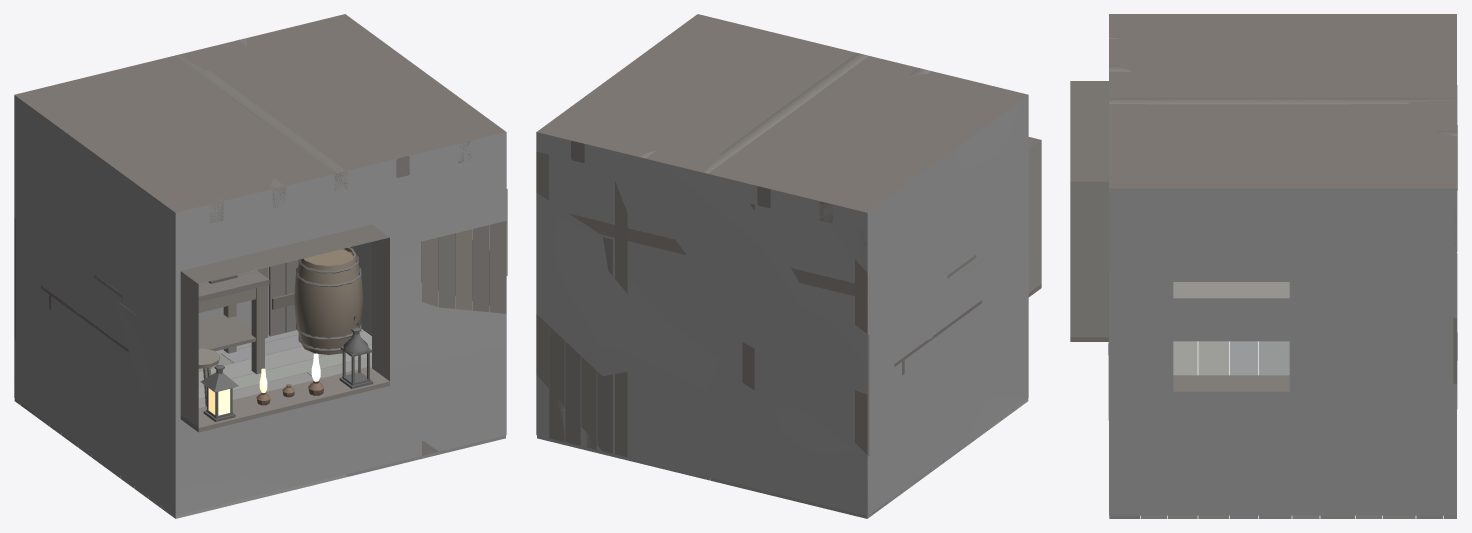
File: lamplighter_interior.glb
3 renders of one model, left to right at view 1: azimuth 30°, elevation 25°; view 2: azimuth 150°, elevation 25°; view 3: azimuth 270°, elevation 25°, orthographic. The views are drawn at different scales.
Parts seen in each view (by area): view 1: Room walls / tav_limewash, Room wood / tav_board, Room wood / tav_oak, Room wood / tav_floor, Workshop things / tav_board, Room walls / tav_oak, Room walls / tav_oak_smooth, Workshop things / tav_iron, Workbench / tav_oak, Workbench / tav_board, Workbench / tav_oak_smooth, Workshop things / tav_oak_smooth (+2 smaller); view 2: Room walls / tav_limewash, Room wood / tav_board, Room wood / tav_oak, Room wood / tav_floor, Room wood / tav_oak_end; view 3: Room walls / tav_limewash, Room wood / tav_board, Room wood / tav_floor, Room walls / tav_oak, Room wood / tav_oak, Room walls / tav_oak_smooth.
Boxes of the visible parts, left/top/right/bottom form: Room walls / tav_limewash: left=14, top=95, right=507, bottom=515; Room wood / tav_board: left=14, top=14, right=505, bottom=336; Room wood / tav_oak: left=14, top=38, right=506, bottom=455; Room wood / tav_floor: left=14, top=329, right=505, bottom=518; Workshop things / tav_board: left=41, top=247, right=363, bottom=354; Room walls / tav_oak: left=181, top=224, right=389, bottom=283; Room walls / tav_oak_smooth: left=180, top=367, right=389, bottom=432; Workshop things / tav_iron: left=119, top=249, right=373, bottom=388; Workbench / tav_oak: left=198, top=286, right=264, bottom=374; Workbench / tav_board: left=198, top=315, right=255, bottom=351; Workbench / tav_oak_smooth: left=198, top=270, right=269, bottom=301; Workshop things / tav_oak_smooth: left=198, top=249, right=352, bottom=406; Room walls / tav_limewash: left=536, top=95, right=1041, bottom=515; Room wood / tav_board: left=537, top=14, right=1028, bottom=453; Room wood / tav_oak: left=536, top=38, right=983, bottom=514; Room wood / tav_floor: left=537, top=398, right=1028, bottom=518; Room wood / tav_oak_end: left=571, top=141, right=832, bottom=222; Room walls / tav_limewash: left=1070, top=85, right=1457, bottom=515; Room wood / tav_board: left=1109, top=14, right=1456, bottom=188; Room wood / tav_floor: left=1109, top=341, right=1456, bottom=518; Room walls / tav_oak: left=1070, top=81, right=1108, bottom=181; Room wood / tav_oak: left=1109, top=37, right=1456, bottom=384; Room walls / tav_oak_smooth: left=1070, top=337, right=1289, bottom=391.
Size of the model in its own units: 3.5 by 2.83 by 3.
